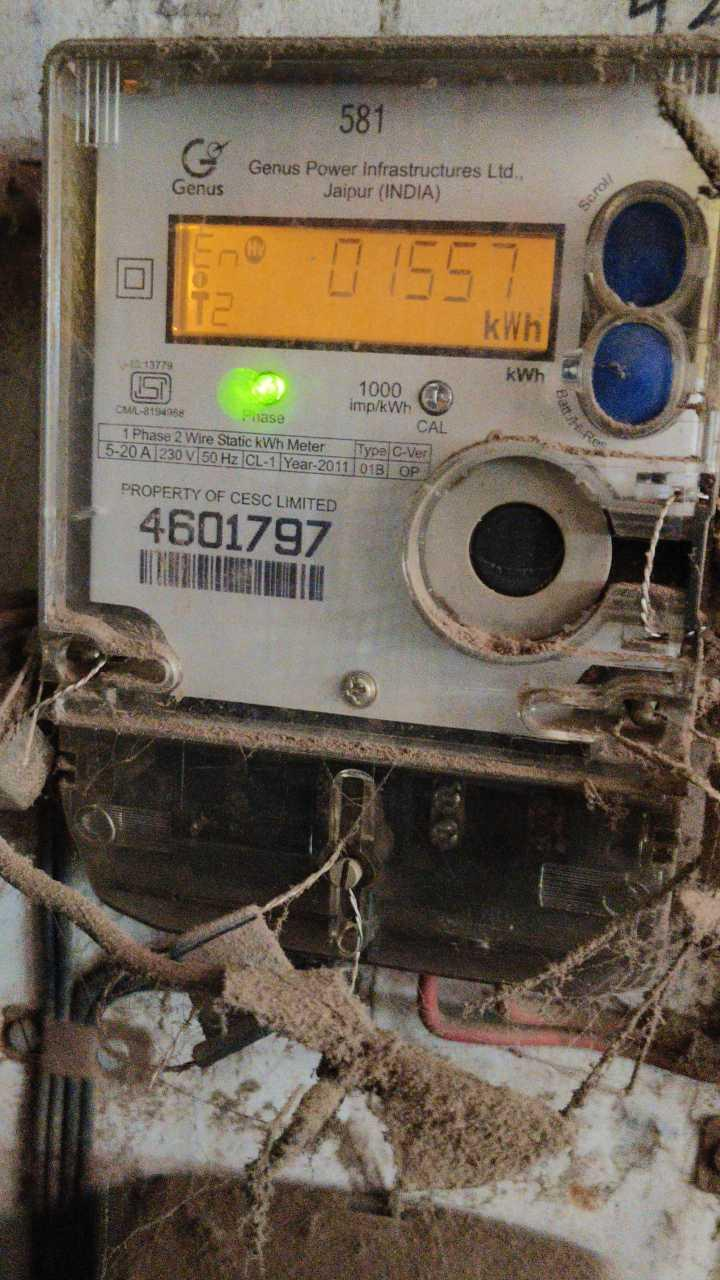meter_readings: (313, 237, 527, 308)
serial_number: (138, 509, 337, 553)
